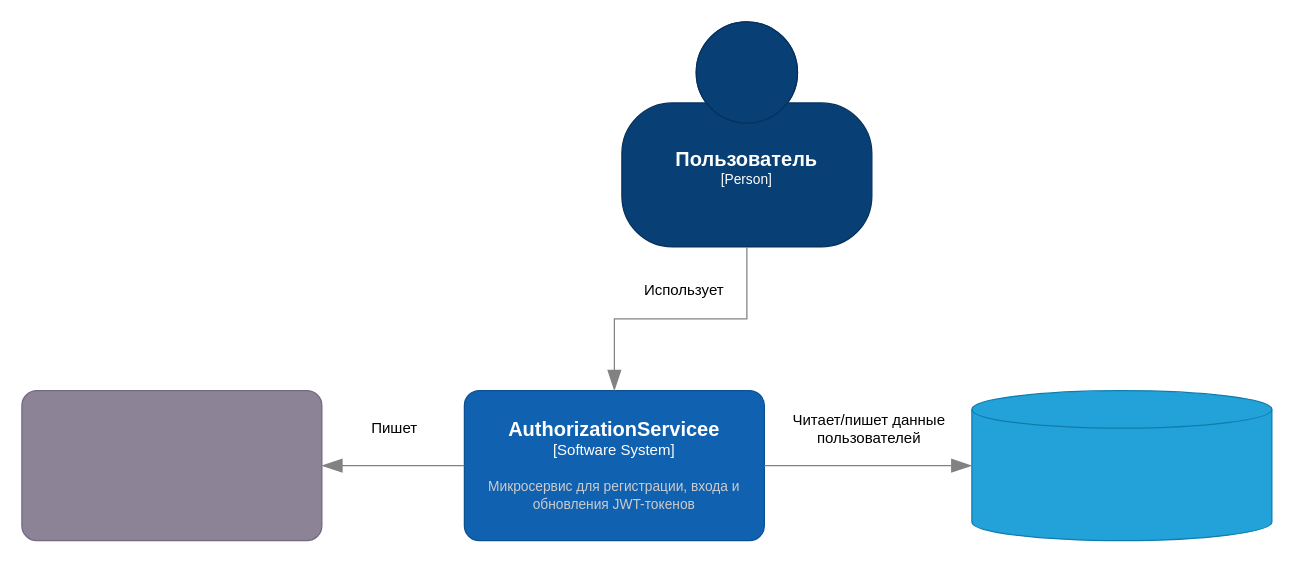
This 1294x563 diagram has some shape labels left out. Each missing label, with the centre of its shape:
AccountService [Software System] Работает с пользовательскими профилями: point (171, 465)
AuthDb [Container: PostgreSQL] база данных для хранения пользователей: point (1121, 465)
